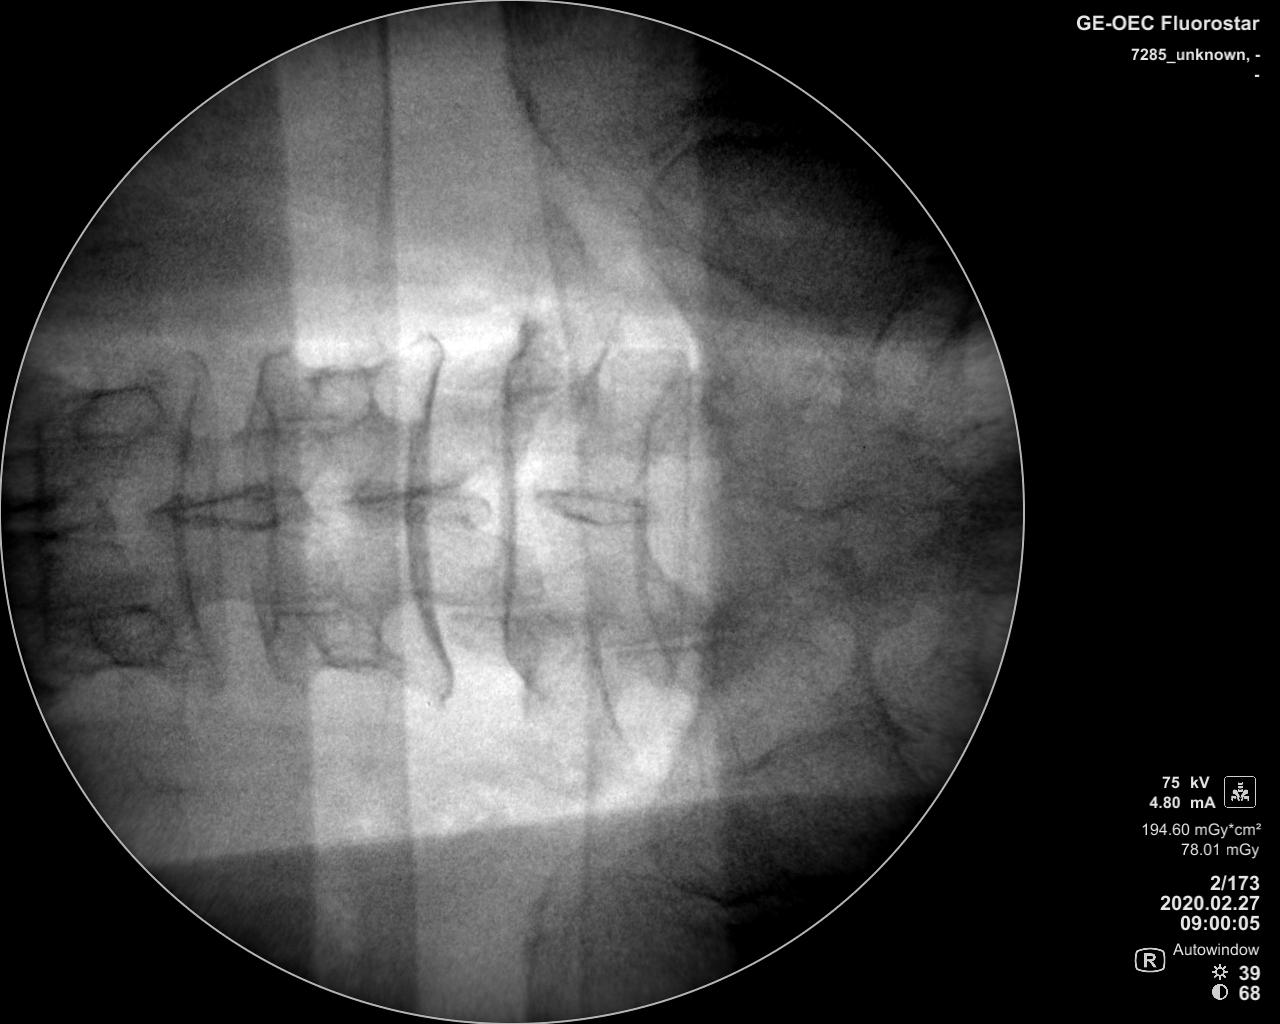eyes: (311, 601, 393, 683), (67, 387, 165, 451), (284, 368, 377, 435), (83, 608, 176, 673)
line: (639, 358, 697, 681), (405, 371, 455, 691), (574, 349, 613, 689), (245, 395, 283, 649), (496, 325, 525, 669), (170, 397, 195, 647), (31, 432, 57, 653)
nose: (139, 475, 311, 530), (332, 489, 502, 536), (537, 479, 656, 537), (6, 494, 114, 538)
